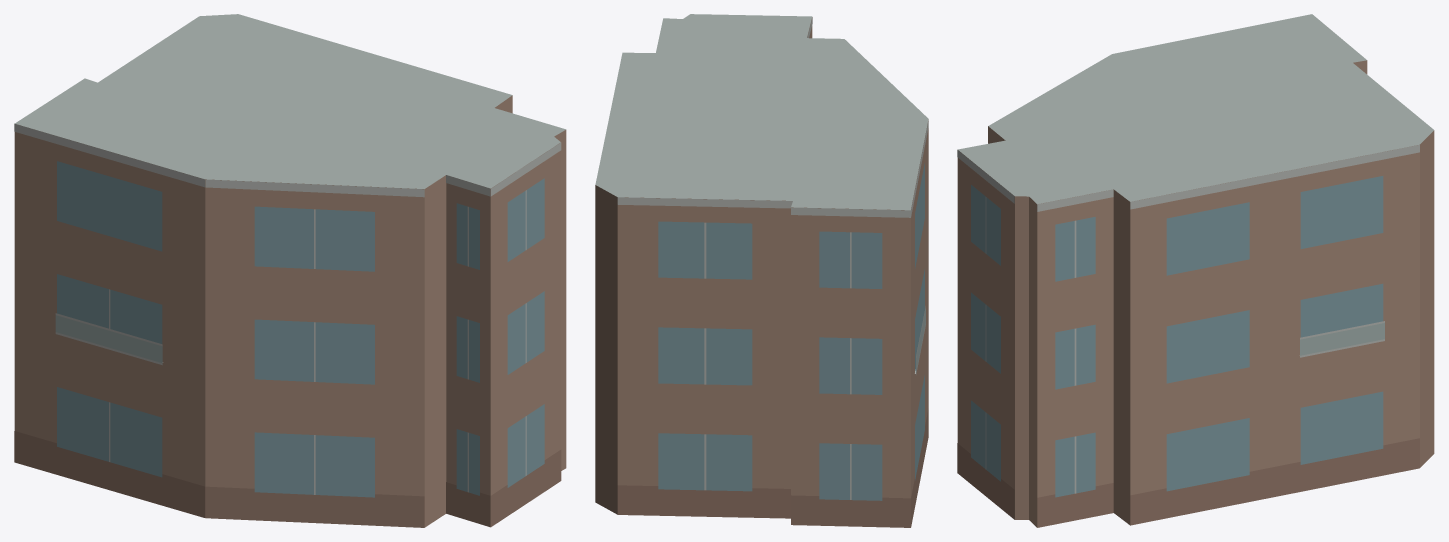
The model's file is survey-upis-32835202.glb.
3 views of the same model, side by side, from view 1: azimuth 30°, elevation 25°; view 2: azimuth 150°, elevation 25°; view 3: azimuth 270°, elevation 25° (orthographic). The views are drawn at different scales.
Visible parts, largest first — view 1: survey-upis-32835202.tmp; view 2: survey-upis-32835202.tmp; view 3: survey-upis-32835202.tmp.
Boxes of the visible parts, x1,y1,x2,y2 form: survey-upis-32835202.tmp: (14, 14, 566, 527); survey-upis-32835202.tmp: (595, 14, 928, 527); survey-upis-32835202.tmp: (957, 14, 1434, 527).
Bounding box in the file's own units: 12.87 × 10.2 × 13.63.
